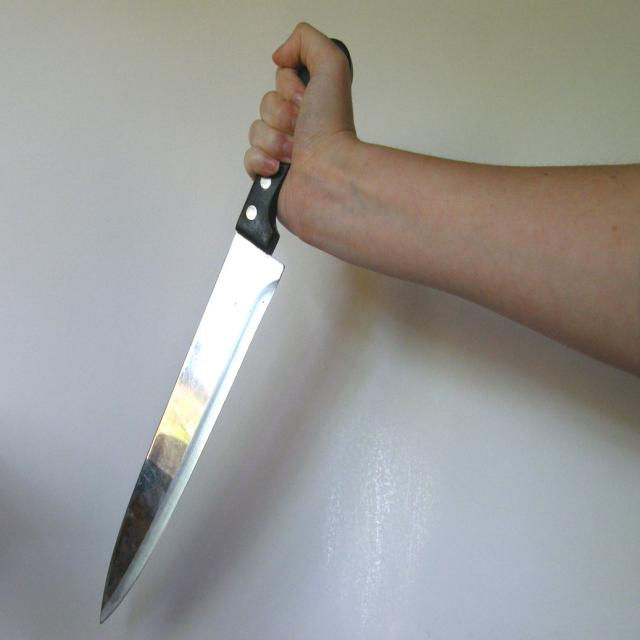knife: (99, 29, 359, 629)
